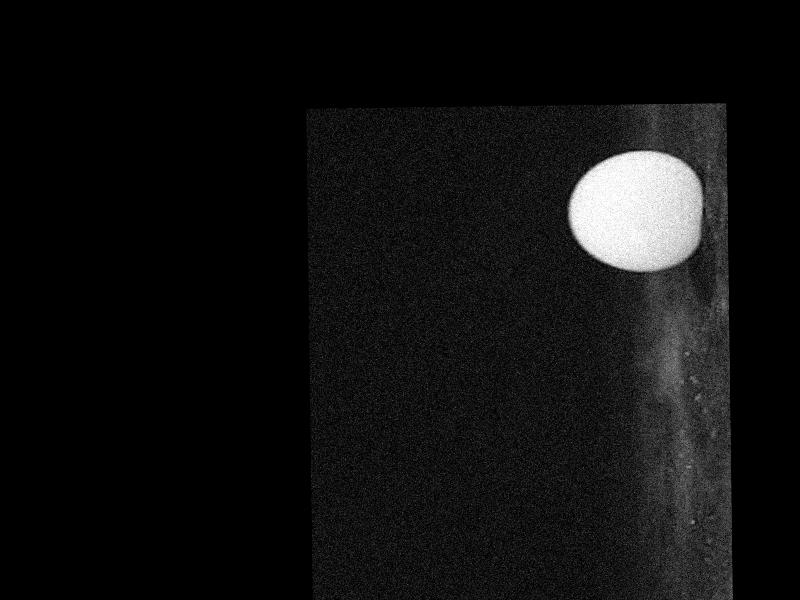Eggs: (567, 150, 701, 273)
